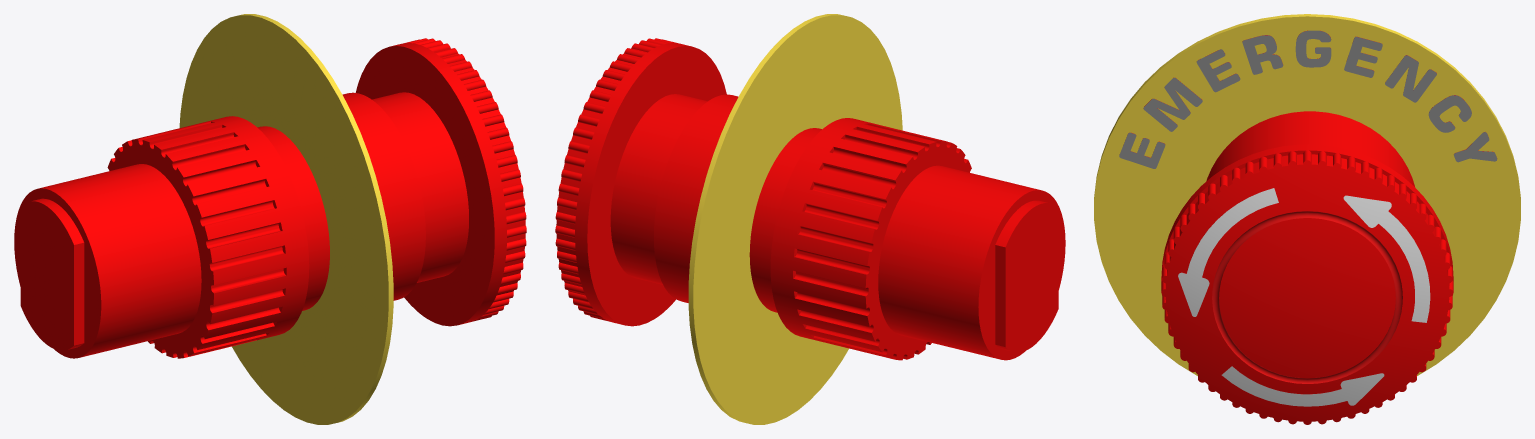
The model's file is e_stop.dae.
3 renders of one model, left to right at view 1: azimuth 30°, elevation 25°; view 2: azimuth 150°, elevation 25°; view 3: azimuth 270°, elevation 25°, orthographic.
Visible parts, largest first — view 1: e_stop; view 2: e_stop; view 3: e_stop.
Boxes of the visible parts, <box> form: e_stop: <box>14,14,526,424</box>; e_stop: <box>555,14,1065,424</box>; e_stop: <box>1094,14,1520,424</box>.
Bounding box in the file's own units: 0.0414 × 0.0355 × 0.0355.
